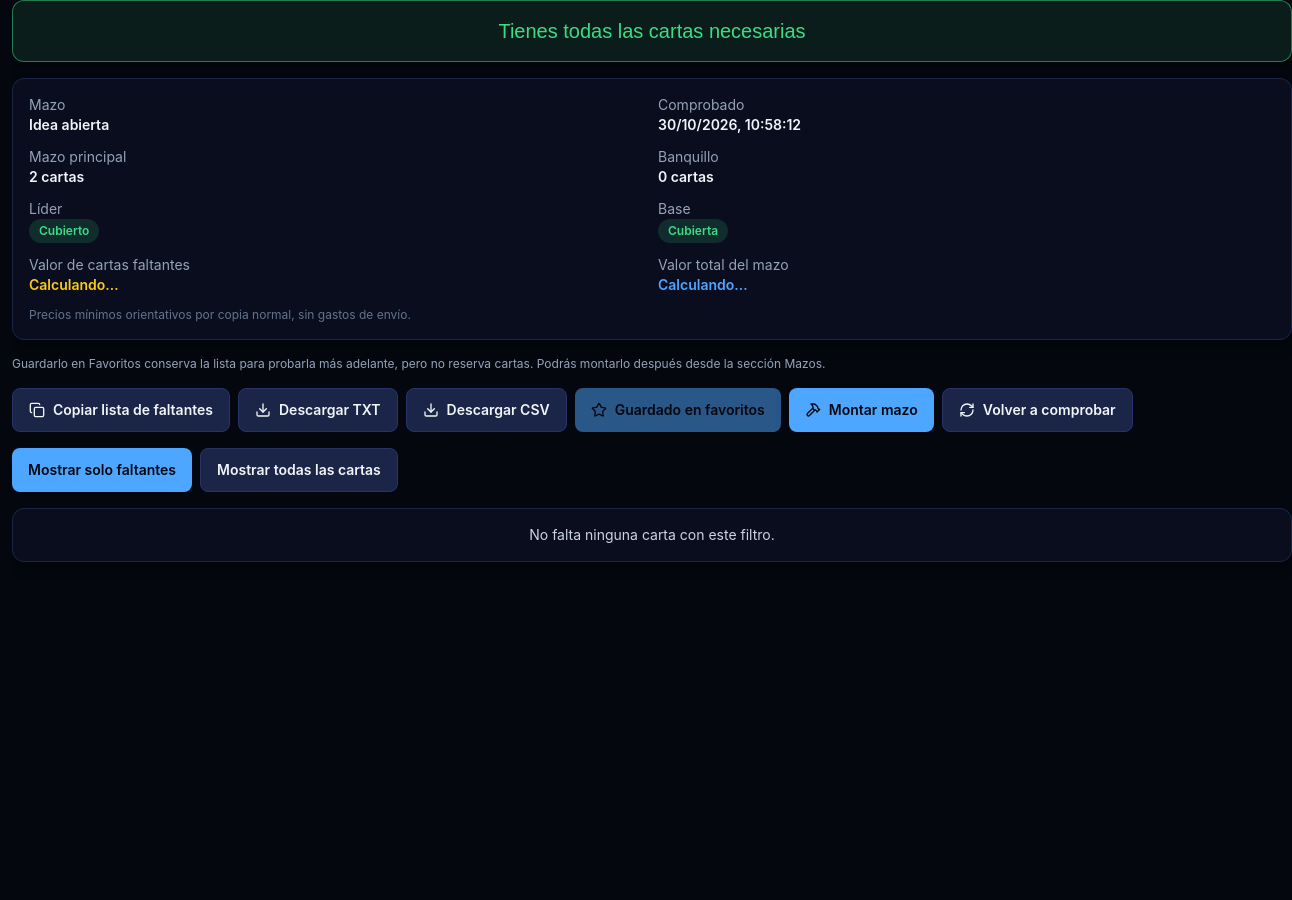
Test case: Favoritos y mazos montados › permite montar el favorito sin salir de su pantalla de resultado
The width and height of the screenshot is (1292, 900).
What coordinates should you click on to do the following:
click the button "Montar mazo"
I would click on:
 (861, 410)
Its box is x1=789 y1=388 x2=934 y2=432.
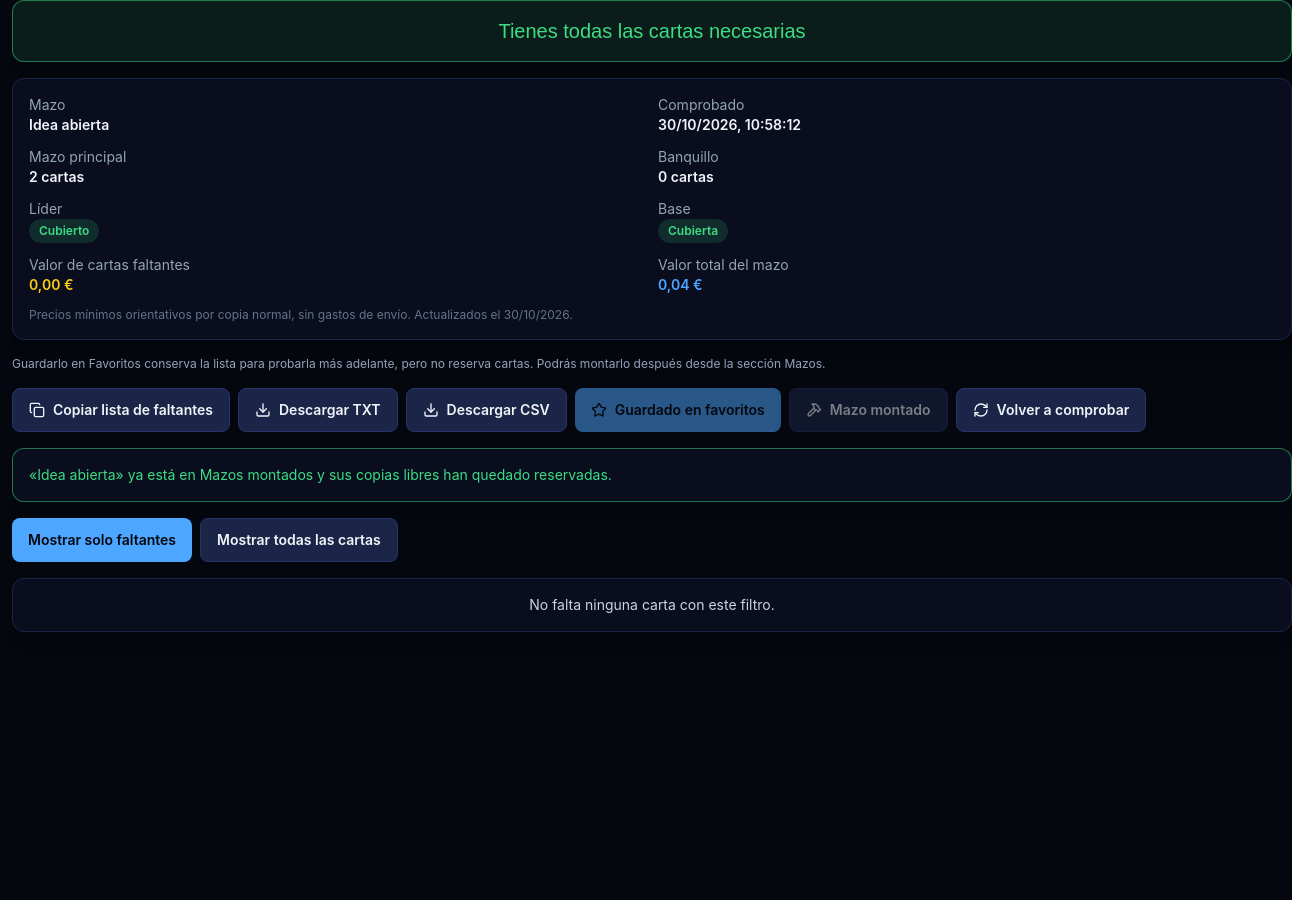
Expected: the button "Mazo montado" is disabled, x1=789 y1=388 x2=948 y2=432
Expected: the message shows "ya está en Mazos montados", x1=29 y1=466 x2=612 y2=483
